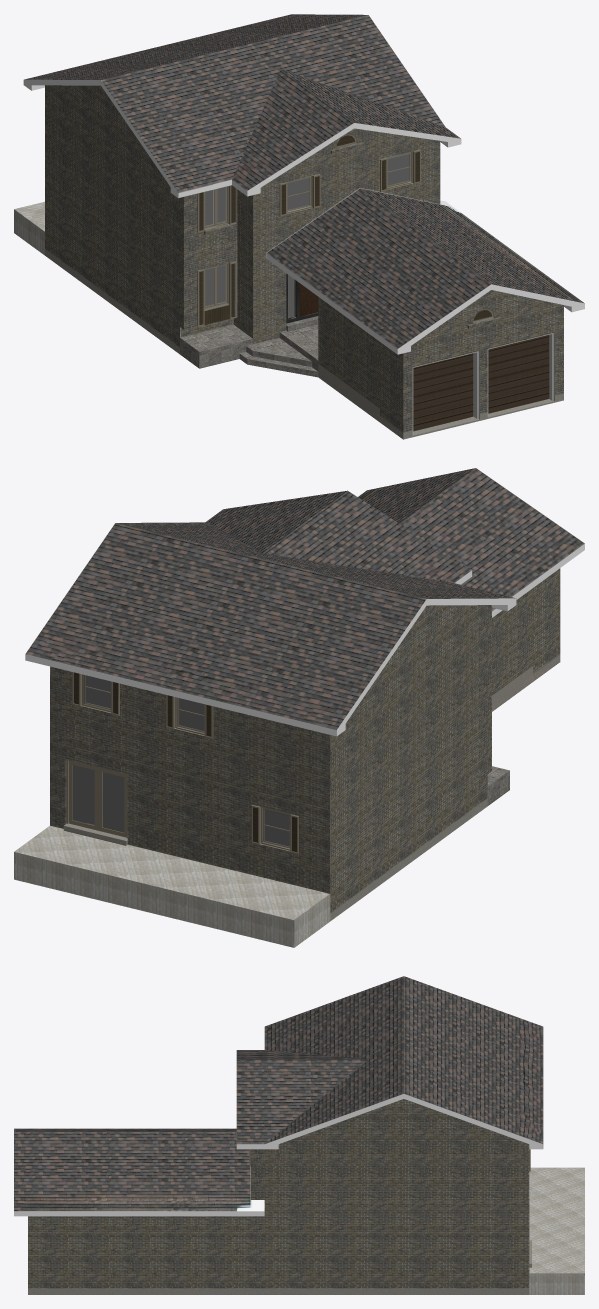
File: Residential House 13.fbx
The picture shows the model from 3 angles, top to bottom: view 1: azimuth 30°, elevation 25°; view 2: azimuth 150°, elevation 25°; view 3: azimuth 270°, elevation 25°; orthographic projection. The views are drawn at different scales.
Visible parts, largest first — view 1: Residential_House_13_LOD0; view 2: Residential_House_13_LOD0; view 3: Residential_House_13_LOD0.
Boxes of the visible parts, x1,y1,x2,y2 form: Residential_House_13_LOD0: (14, 14, 584, 439); Residential_House_13_LOD0: (14, 468, 584, 947); Residential_House_13_LOD0: (14, 976, 584, 1294).
Size of what is drawn, in the model's own units: 1000 by 820 by 2050.
1 material, 1 textured.
